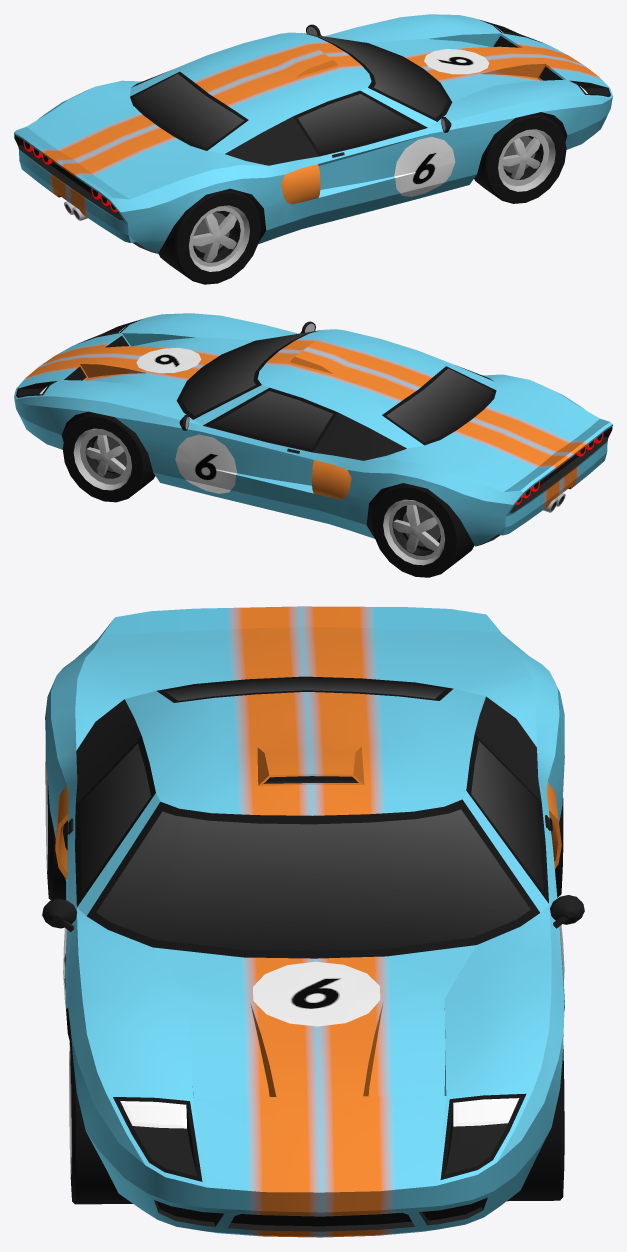
The model's file is RaceCar_071.glb.
3 renders of one model, top to bottom at view 1: azimuth 30°, elevation 25°; view 2: azimuth 150°, elevation 25°; view 3: azimuth 270°, elevation 25°, orthographic. The views are drawn at different scales.
Visible parts, largest first — view 1: RaceCar_071, wheel_3_RaceCar_071_Wheel_2R, wheel_1_RaceCar_071_Wheel_1R; view 2: RaceCar_071, wheel_2_RaceCar_071_Wheel_2L, wheel_0_RaceCar_071_Wheel_1L; view 3: RaceCar_071, wheel_1_RaceCar_071_Wheel_1R, wheel_0_RaceCar_071_Wheel_1L, wheel_3_RaceCar_071_Wheel_2R.
Part boxes in pixels (x1,y1,x2,y2): RaceCar_071: (14,14,612,253); wheel_3_RaceCar_071_Wheel_2R: (158,188,261,284); wheel_1_RaceCar_071_Wheel_1R: (474,112,566,203); RaceCar_071: (14,313,612,546); wheel_2_RaceCar_071_Wheel_2L: (371,483,474,577); wheel_0_RaceCar_071_Wheel_1L: (62,411,155,502); RaceCar_071: (42,606,584,1237); wheel_1_RaceCar_071_Wheel_1R: (69,1029,132,1204); wheel_0_RaceCar_071_Wheel_1L: (507,1045,564,1201); wheel_3_RaceCar_071_Wheel_2R: (45,741,66,900).
Bounding box in the file's own units: 4.62 × 1.18 × 2.06.
3 materials, 3 textured.
